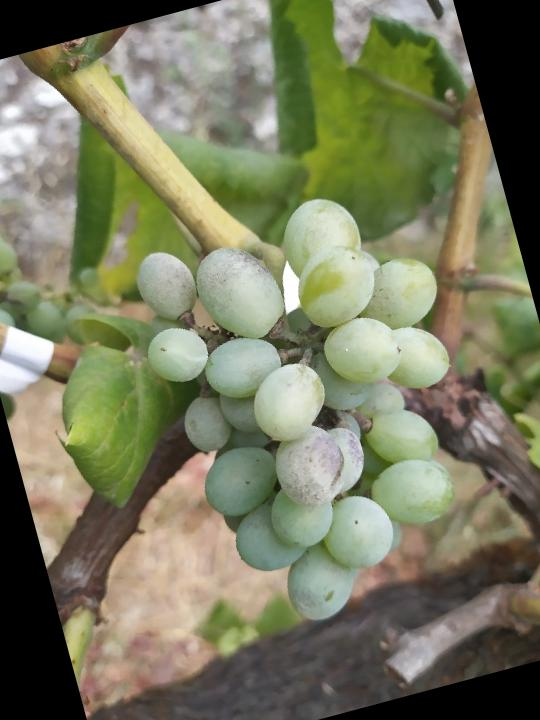grape: (115, 168, 517, 649)
